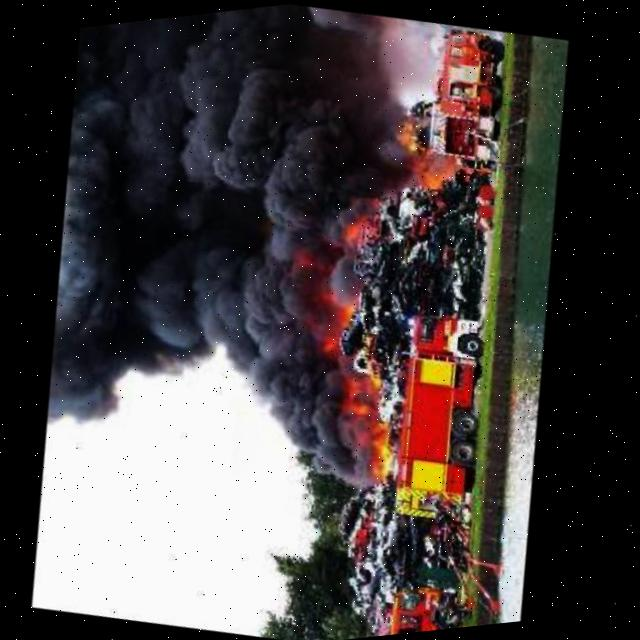fire: (317, 357, 423, 499), (383, 110, 489, 206), (305, 279, 380, 364), (337, 184, 403, 260)
